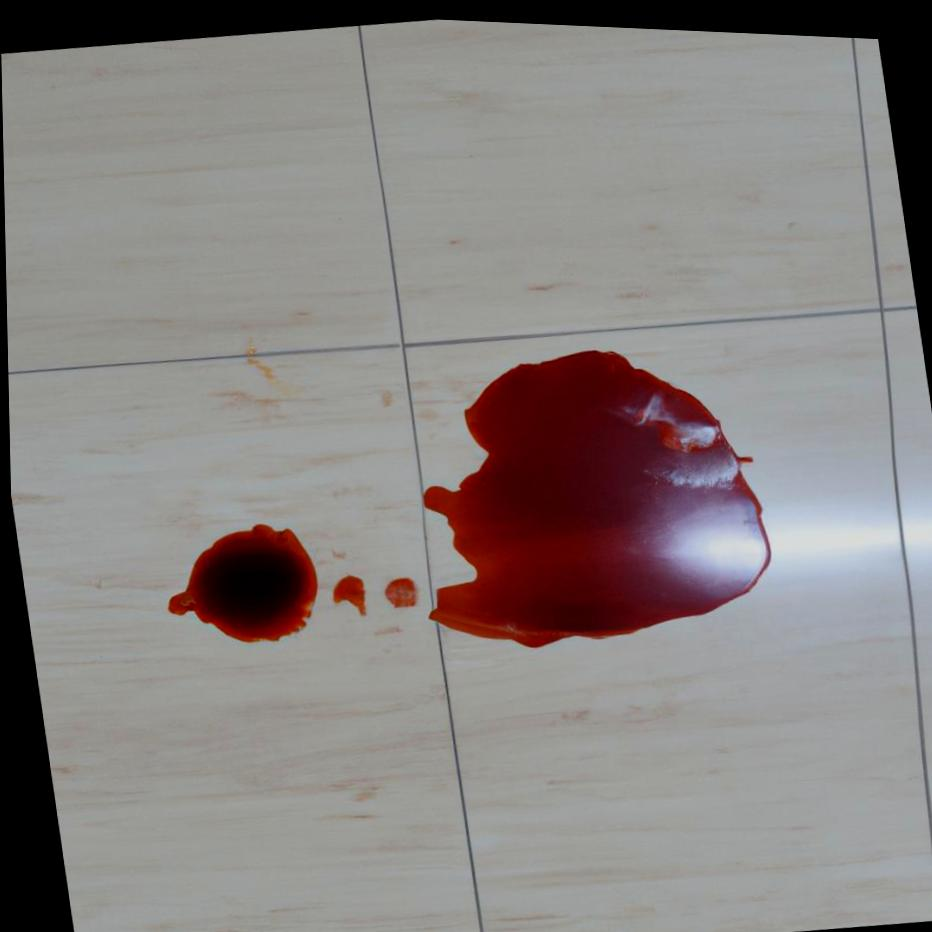Fire: (421, 345, 770, 644), (165, 522, 315, 641), (330, 572, 365, 613), (382, 574, 417, 605)
